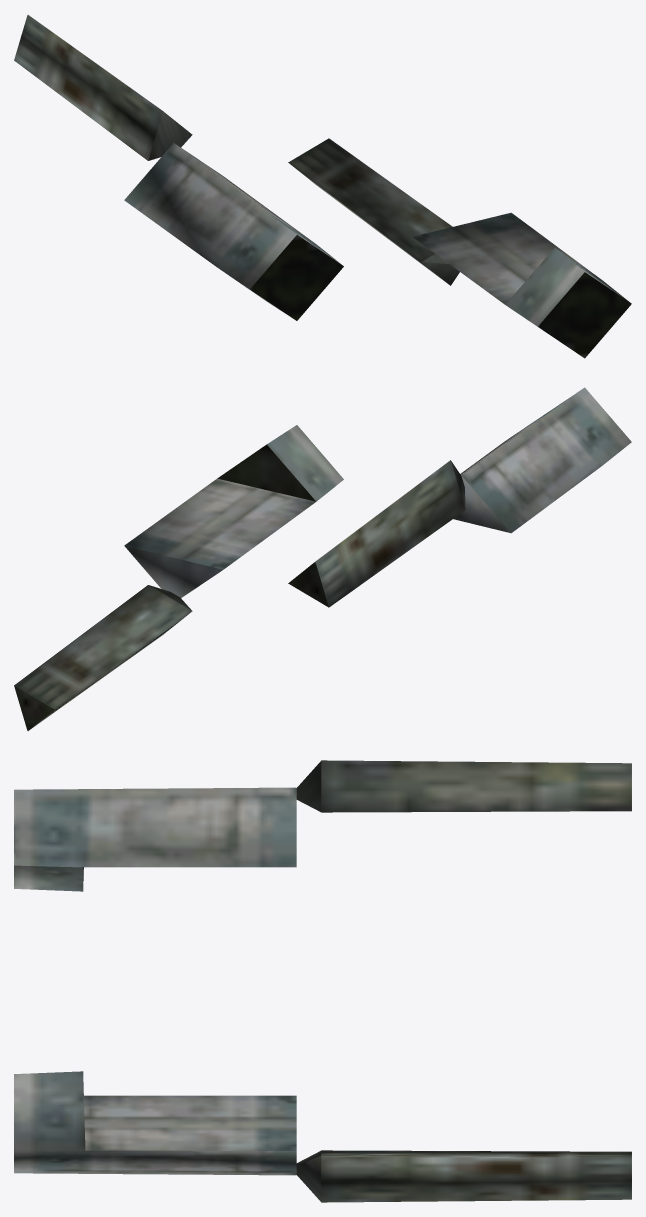
File: xwing_engine_pos_s01_l3.fbx
3 renders of one model, top to bottom at view 1: azimuth 30°, elevation 25°; view 2: azimuth 150°, elevation 25°; view 3: azimuth 270°, elevation 25°, orthographic. The views are drawn at different scales.
Visible parts, largest first — view 1: mesh_node; view 2: mesh_node; view 3: mesh_node.
Boxes of the visible parts, x1,y1,x2,y2 form: mesh_node: (14, 15, 631, 358); mesh_node: (14, 387, 631, 730); mesh_node: (14, 760, 631, 1202).
Size of the model in its own units: 4.7 by 2.84 by 5.66.
Materials: 1 (1 with a texture image).
